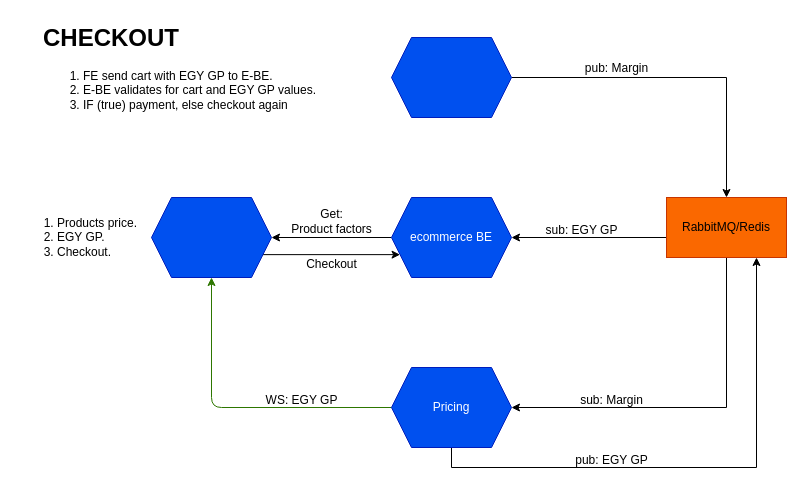
Some shapes in this 804 by 493 pixel diagram are drawn without their labels. The centre of each missing label's shape, as x and y in pixels:
"Admin BE" belongs at [451,77].
"FRONTEND" belongs at [211,237].
